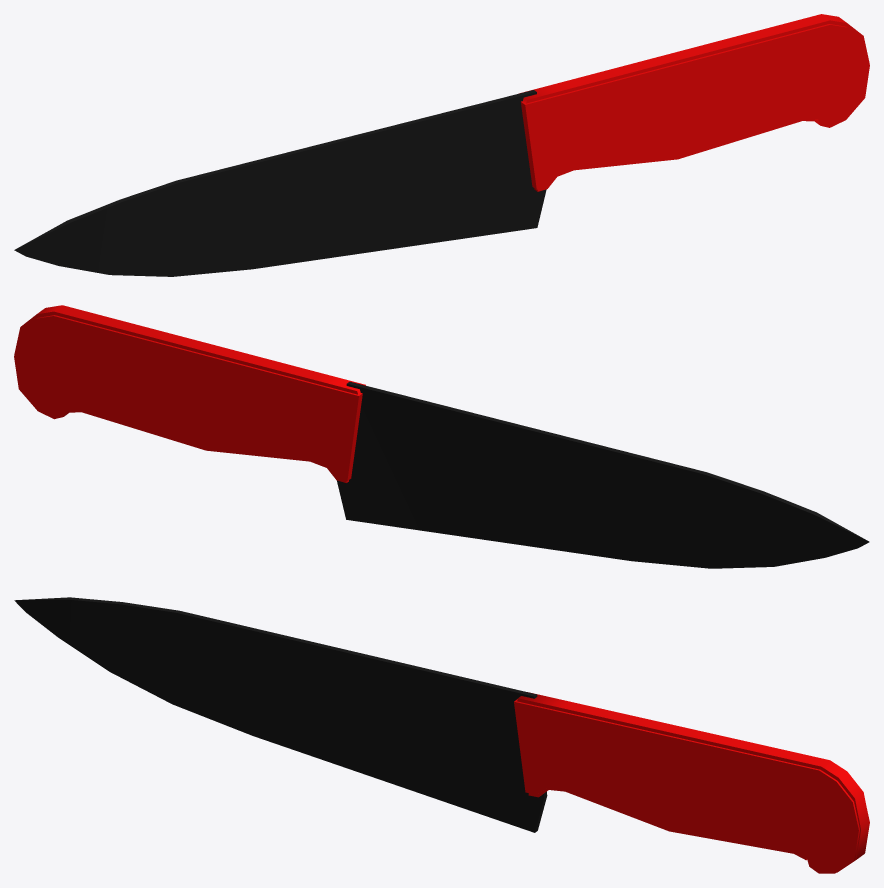
Rendered from RE_PropKnife.FBX.
The picture shows the model from 3 angles, top to bottom: view 1: azimuth 30°, elevation 25°; view 2: azimuth 150°, elevation 25°; view 3: azimuth 330°, elevation 25°; orthographic projection.
Visible parts, largest first — view 1: RE_PropKnife; view 2: RE_PropKnife; view 3: RE_PropKnife.
Part boxes in pixels (x1,y1,x2,y2): RE_PropKnife: (14, 14, 869, 276); RE_PropKnife: (14, 305, 869, 568); RE_PropKnife: (14, 597, 869, 873).
Size of the model in its own units: 20.88 by 3.27 by 0.4692.
